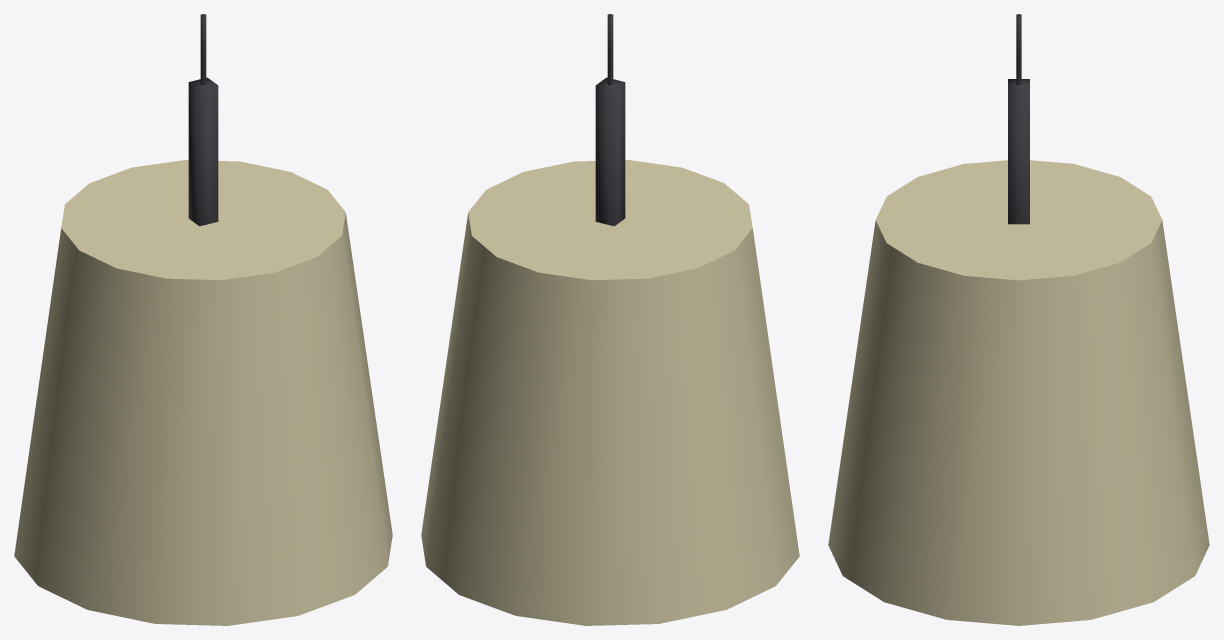
The model's file is MZBLP01.FBX.
3 views of the same model, side by side, from view 1: azimuth 30°, elevation 25°; view 2: azimuth 150°, elevation 25°; view 3: azimuth 270°, elevation 25° (orthographic).
Parts seen in each view (by area): view 1: MZBLP01; view 2: MZBLP01; view 3: MZBLP01.
Boxes of the visible parts, x1,y1,x2,y2 form: MZBLP01: (14, 14, 392, 625); MZBLP01: (421, 14, 799, 625); MZBLP01: (828, 14, 1209, 625).
Size of the model in its own units: 27.97 by 27.97 by 43.
